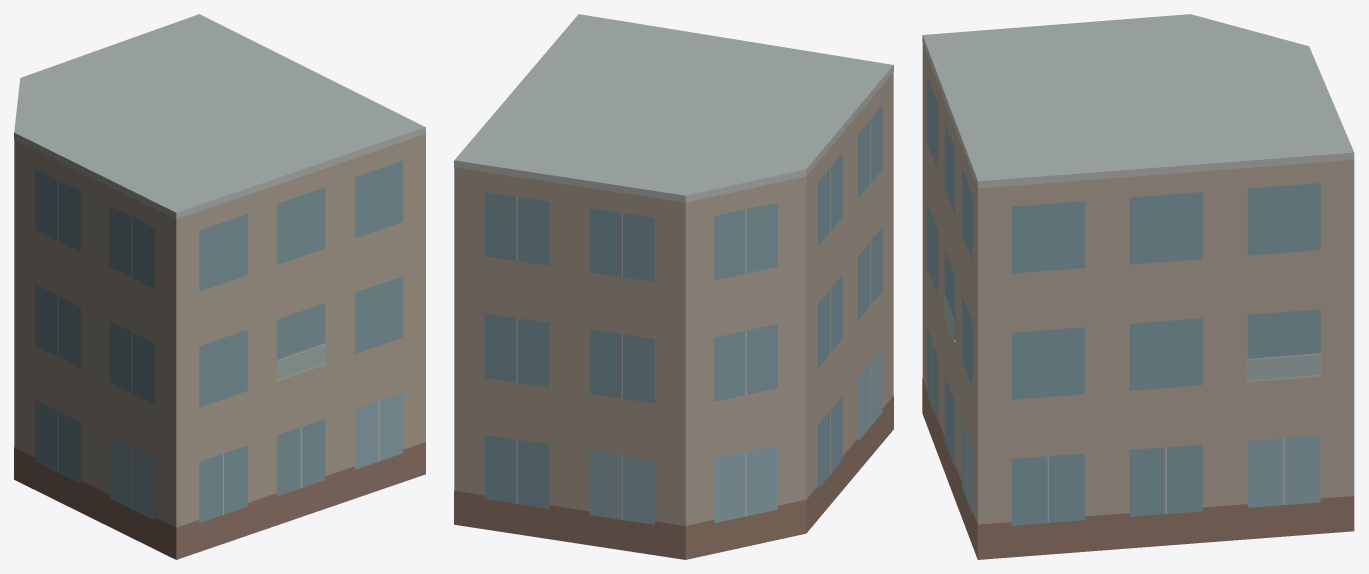
The model's file is survey-upis-32621873.glb.
3 views of the same model, side by side, from view 1: azimuth 30°, elevation 25°; view 2: azimuth 150°, elevation 25°; view 3: azimuth 270°, elevation 25° (orthographic). The views are drawn at different scales.
Parts seen in each view (by area): view 1: survey-upis-32621873.tmp; view 2: survey-upis-32621873.tmp; view 3: survey-upis-32621873.tmp.
Boxes of the visible parts, <box> form: survey-upis-32621873.tmp: <box>14,14,425,559</box>; survey-upis-32621873.tmp: <box>454,14,893,559</box>; survey-upis-32621873.tmp: <box>922,14,1354,559</box>.
Bounding box in the file's own units: 12.05 × 12.7 × 13.14.
